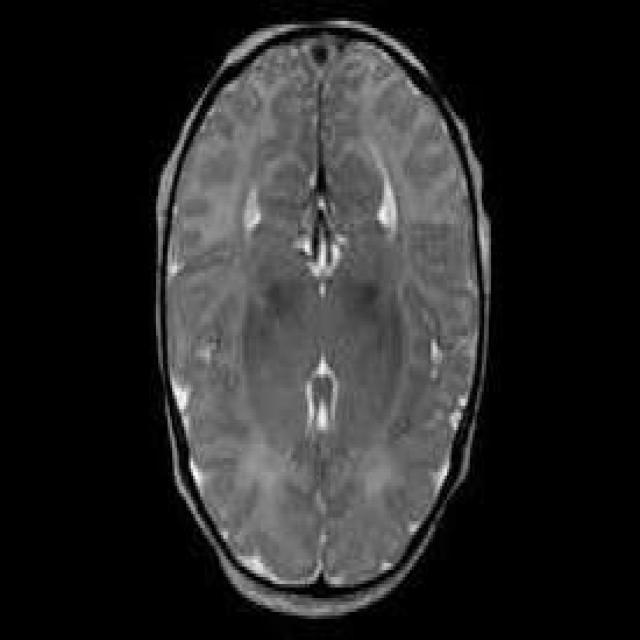no-tumor: (213, 115, 443, 436)
